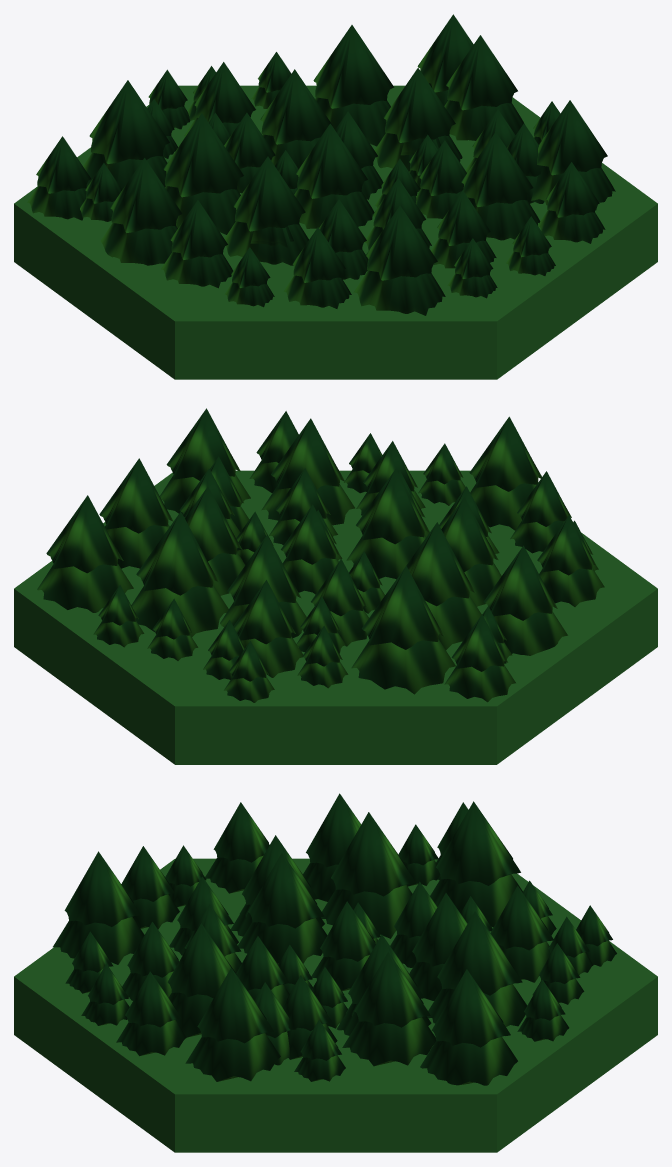
Rendered from lasiglasty.gltf.
3 views of the same model, one above another, from view 1: azimuth 30°, elevation 25°; view 2: azimuth 150°, elevation 25°; view 3: azimuth 270°, elevation 25° (orthographic).
Visible parts, largest first — view 1: hextile, iglak.055, iglak.053, iglak.009, iglak.052, iglak.059, iglak.049, iglak.051, iglak.007, iglak.015, iglak.022, iglak.004 (+26 smaller); view 2: hextile, iglak.059, iglak.009, iglak.003, iglak.052, iglak.051, iglak.055, iglak.053, iglak.007, iglak.015, iglak.022, iglak.054 (+24 smaller); view 3: hextile, iglak.003, iglak.053, iglak.022, iglak.007, iglak.059, iglak.055, iglak.051, iglak.009, iglak.015, iglak.062, iglak.006 (+27 smaller).
Part boxes in pixels (<box>): hextile: <box>14,85,657,379</box>; iglak.055: <box>354,205,445,315</box>; iglak.053: <box>163,113,243,234</box>; iglak.009: <box>313,25,394,146</box>; iglak.052: <box>101,158,182,265</box>; iglak.059: <box>83,80,169,189</box>; iglak.049: <box>224,156,308,265</box>; iglak.051: <box>294,123,374,228</box>; iglak.007: <box>444,35,523,140</box>; iglak.015: <box>461,132,540,240</box>; iglak.022: <box>531,100,615,210</box>; iglak.004: <box>374,68,462,171</box>; hextile: <box>14,470,657,764</box>; iglak.059: <box>351,566,455,694</box>; iglak.009: <box>131,511,228,636</box>; iglak.003: <box>37,495,133,612</box>; iglak.052: <box>483,545,567,655</box>; iglak.051: <box>346,469,429,579</box>; iglak.055: <box>469,416,541,530</box>; iglak.053: <box>406,522,481,649</box>; iglak.007: <box>99,458,173,568</box>; iglak.015: <box>261,418,354,525</box>; iglak.022: <box>160,408,250,516</box>; iglak.054: <box>537,515,604,606</box>; hextile: <box>14,858,657,1152</box>; iglak.003: <box>420,969,517,1085</box>; iglak.053: <box>321,812,415,938</box>; iglak.022: <box>185,967,280,1081</box>; iglak.007: <box>342,952,436,1066</box>; iglak.059: <box>430,801,522,927</box>; iglak.055: <box>53,851,144,964</box>; iglak.051: <box>238,853,327,964</box>; iglak.009: <box>427,911,527,1026</box>; iglak.015: <box>167,923,236,1037</box>; iglak.062: <box>116,971,186,1056</box>; iglak.006: <box>490,885,553,982</box>.
Bounding box in the file's own units: 1.73 × 0.5704 × 2.
Materials: 2 (1 with a texture image).
